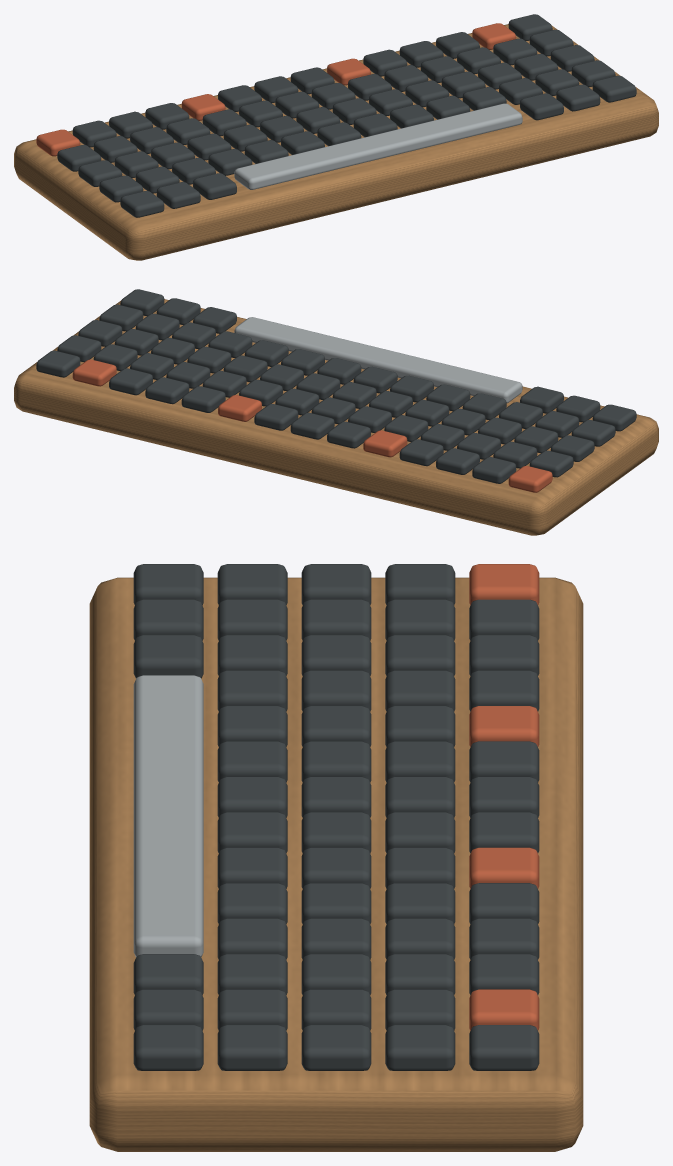
The model's file is kb_dorm_60-202f7081f4e4.glb.
3 renders of one model, top to bottom at view 1: azimuth 30°, elevation 25°; view 2: azimuth 150°, elevation 25°; view 3: azimuth 270°, elevation 25°, orthographic. The views are drawn at different scales.
Visible parts, largest first — view 1: surface_graphite, surface_oak, surface_steel, surface_terracotta; view 2: surface_graphite, surface_oak, surface_steel, surface_terracotta; view 3: surface_graphite, surface_oak, surface_steel, surface_terracotta.
Part boxes in pixels (left/top/right/bottom): surface_graphite: left=57, top=14, right=636, bottom=217; surface_oak: left=14, top=24, right=658, bottom=260; surface_steel: left=234, top=103, right=522, bottom=189; surface_terracotta: left=36, top=23, right=516, bottom=156; surface_graphite: left=36, top=289, right=636, bottom=483; surface_oak: left=14, top=299, right=658, bottom=535; surface_steel: left=234, top=317, right=522, bottom=403; surface_terracotta: left=72, top=359, right=552, bottom=492; surface_graphite: left=133, top=564, right=539, bottom=1070; surface_oak: left=89, top=577, right=583, bottom=1151; surface_steel: left=133, top=675, right=203, bottom=956; surface_terracotta: left=469, top=564, right=539, bottom=1030.
Bounding box in the file's own units: 0.264 × 0.023 × 0.106.
4 materials, 1 textured.
